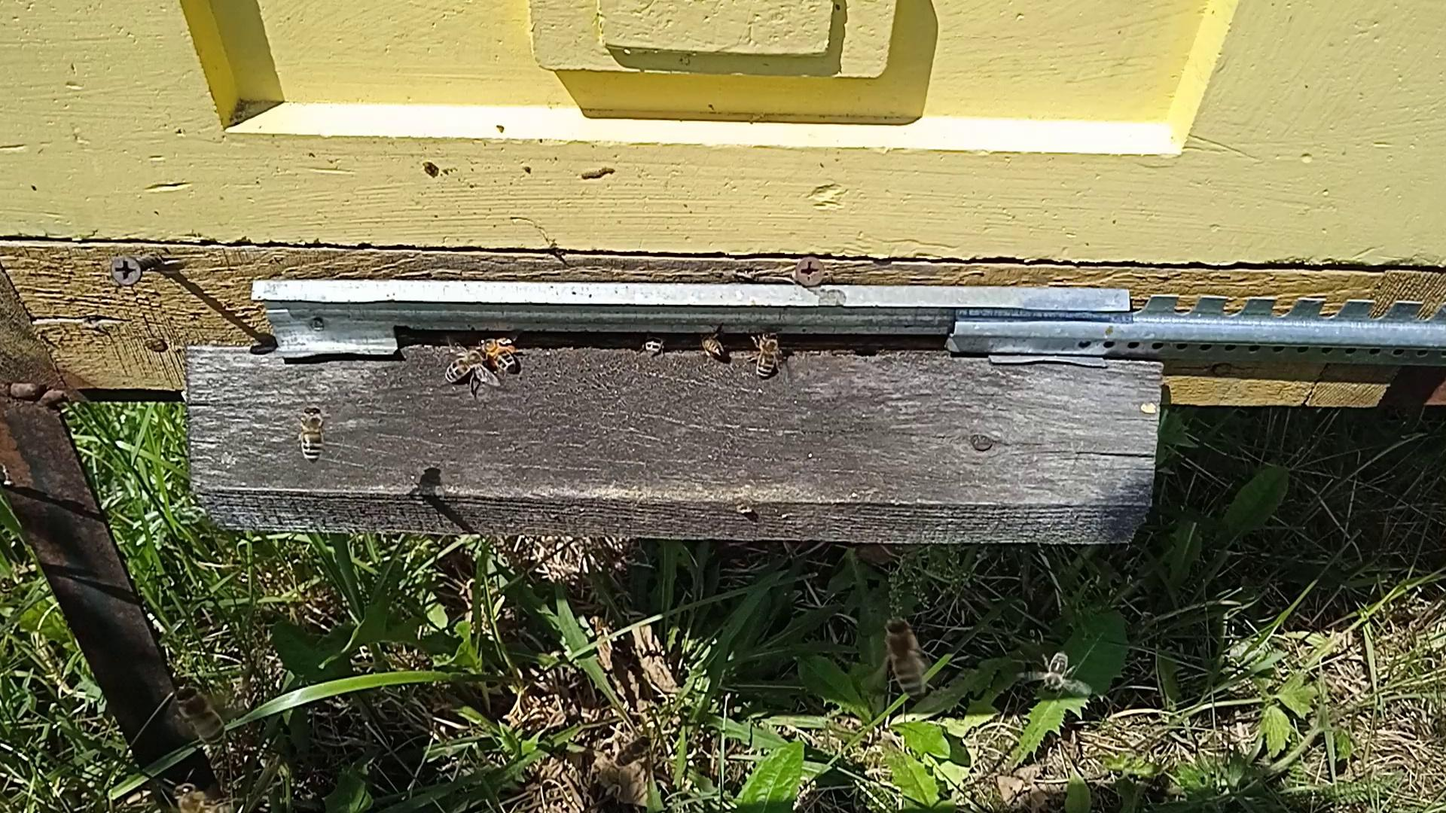worker-bee: (171, 684, 226, 747), (885, 617, 927, 697), (171, 782, 230, 813), (296, 406, 326, 464), (477, 335, 519, 373), (444, 349, 487, 385), (752, 332, 782, 379), (614, 735, 653, 768), (1043, 648, 1071, 693), (697, 333, 727, 360), (639, 332, 668, 355)
